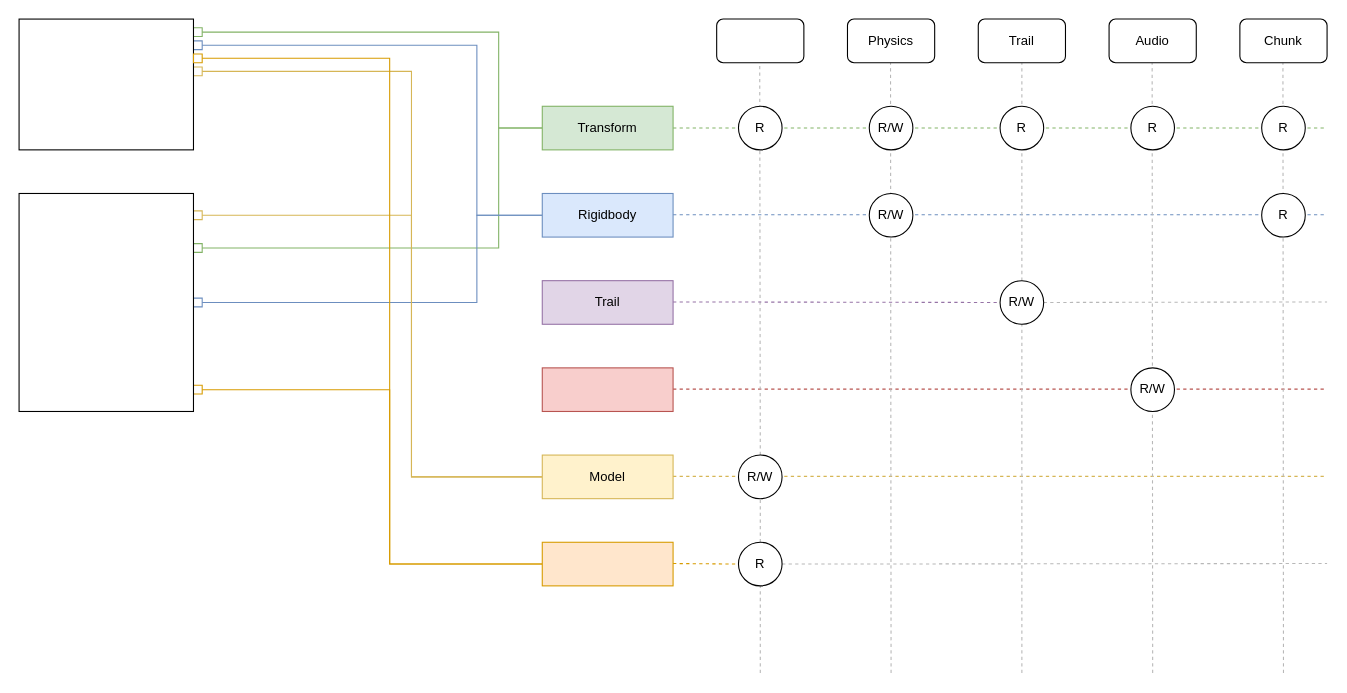
Image size: 1347x693. Some labels were removed from this diagram. The box of each missing label's shape, as (x1, y1, x2, y2) in pixels:
Astéroides Obje t répartis dans l'espace qui peuvent être détruit: (18, 18, 193, 150)
AudioSource: (541, 367, 673, 411)
Collider: (541, 541, 673, 586)
Draw: (716, 18, 804, 63)
LightFighter Vaisseaux ennemis de base qui attaque le joueur à vue: (18, 192, 193, 411)
